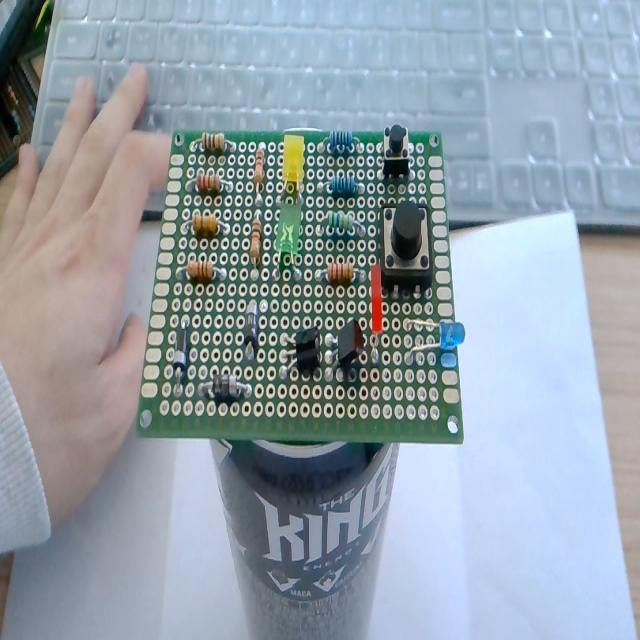diode: (192, 368, 256, 404), (241, 288, 259, 357), (172, 317, 188, 391)
led: (402, 308, 472, 372), (270, 202, 308, 282), (275, 128, 311, 202), (368, 265, 386, 374)
resistor: (314, 205, 368, 241), (170, 258, 232, 287), (185, 161, 229, 199), (176, 209, 230, 239), (315, 257, 362, 288), (315, 172, 368, 199), (321, 126, 364, 158), (190, 130, 232, 162), (248, 212, 262, 284), (255, 142, 270, 206)
switch: (376, 197, 437, 303), (378, 120, 416, 187)
transistor: (322, 316, 370, 391), (278, 318, 322, 390)
